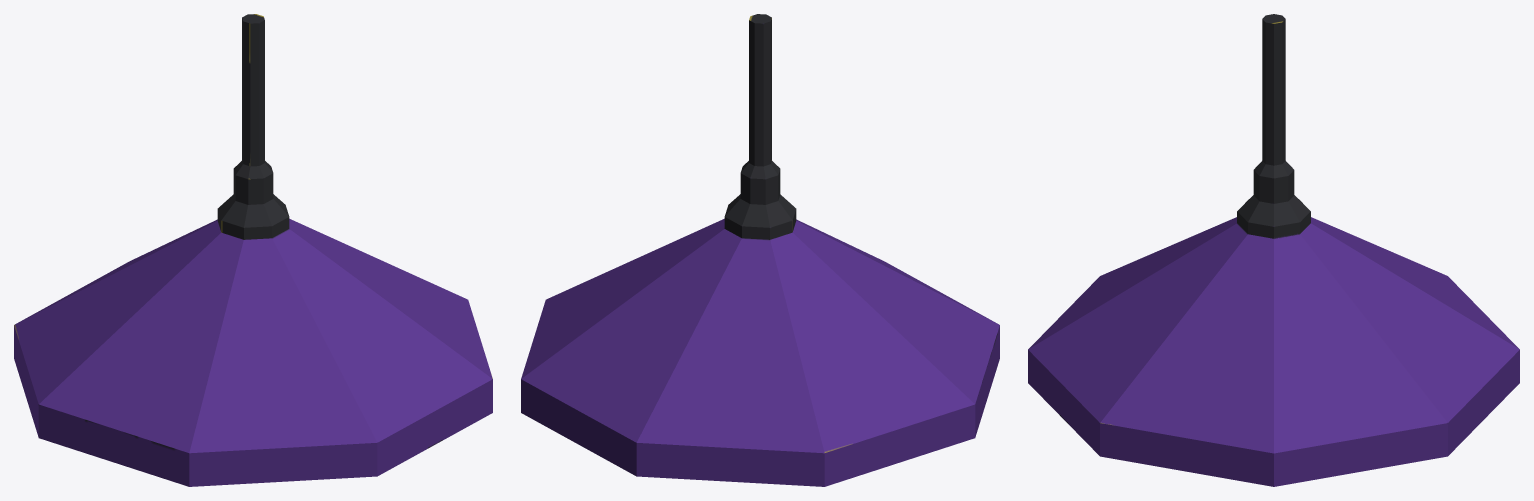
The model's file is HangingLamp-1.fbx.
The picture shows the model from 3 angles, left to right: view 1: azimuth 30°, elevation 25°; view 2: azimuth 150°, elevation 25°; view 3: azimuth 270°, elevation 25°; orthographic projection.
Parts seen in each view (by area): view 1: HangingLamp; view 2: HangingLamp; view 3: HangingLamp.
Boxes of the visible parts, bbox=[...] form: HangingLamp: bbox=[14, 14, 492, 486]; HangingLamp: bbox=[521, 14, 999, 486]; HangingLamp: bbox=[1028, 14, 1519, 486].
Bounding box in the file's own units: 629 × 514 × 629.
1 material, 1 textured.
